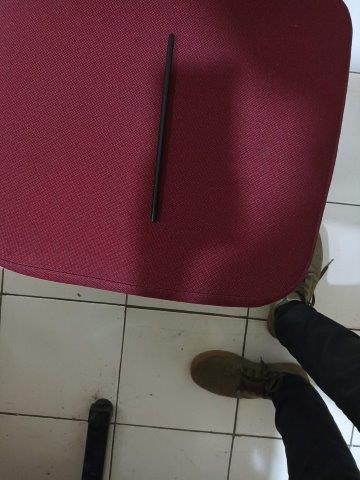sedotan: (151, 33, 174, 221)
